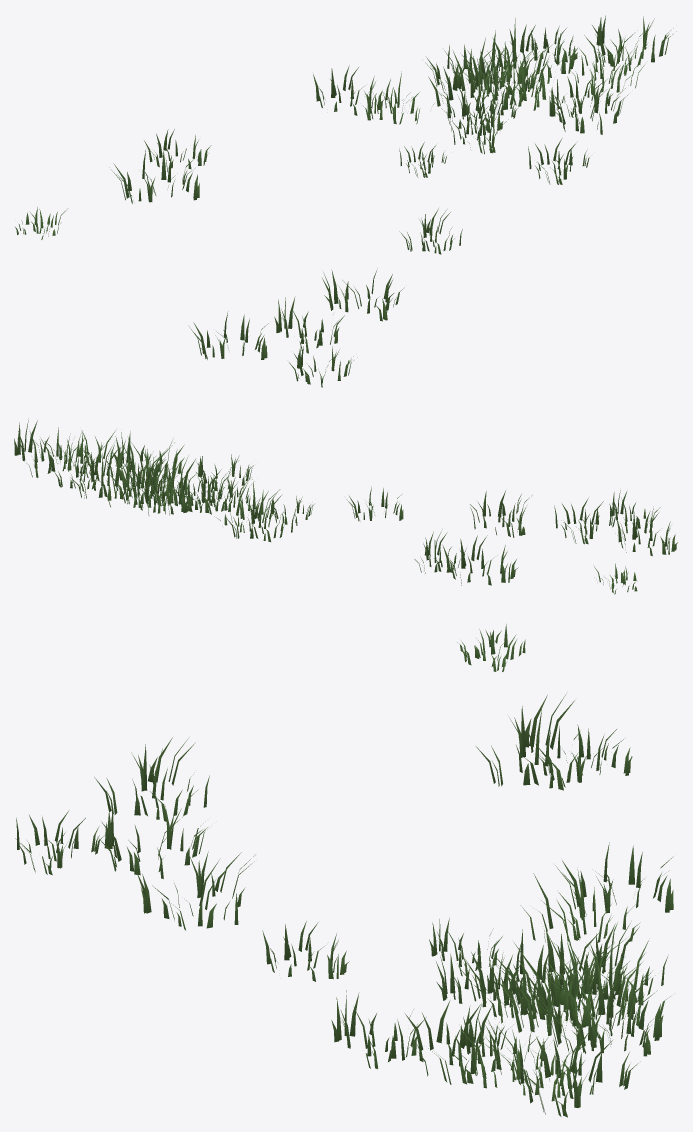
File: P2N_forest_grass_-10_7.glb
3 views of the same model, one above another, from view 1: azimuth 30°, elevation 25°; view 2: azimuth 150°, elevation 25°; view 3: azimuth 270°, elevation 25° (orthographic). The views are drawn at different scales.
Visible parts, largest first — view 1: P2N_forest_grass_-10_7; view 2: P2N_forest_grass_-10_7; view 3: P2N_forest_grass_-10_7.
Boxes of the visible parts, x1=… form: P2N_forest_grass_-10_7: x1=15, y1=15, x2=676, y2=387; P2N_forest_grass_-10_7: x1=14, y1=418, x2=677, y2=594; P2N_forest_grass_-10_7: x1=15, y1=624, x2=673, y2=1117.
Size of the model in its own units: 11.58 by 1.92 by 6.66.
